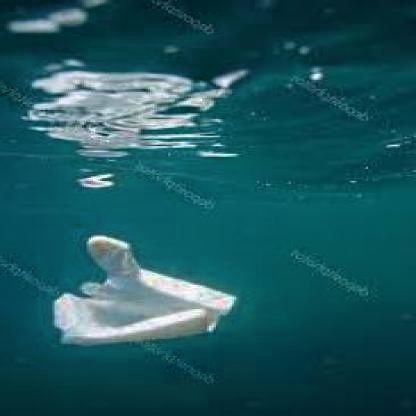pbag: (50, 232, 241, 347)
